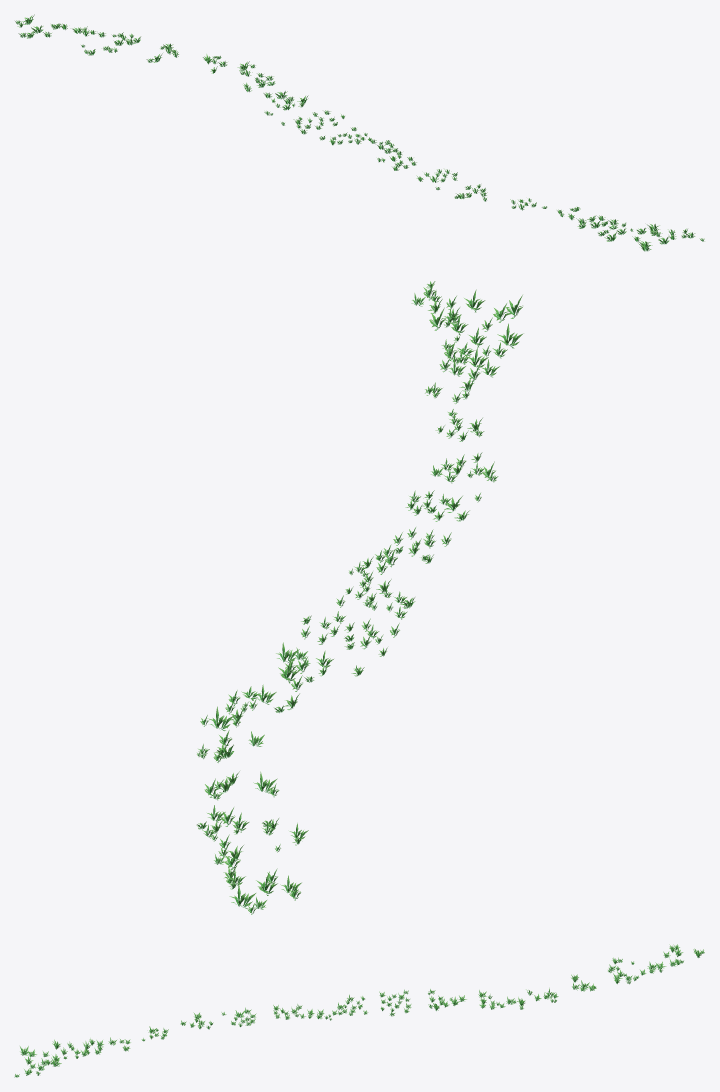
Rendered from Area_13_39.fbx.
3 views of the same model, one above another, from view 1: azimuth 30°, elevation 25°; view 2: azimuth 150°, elevation 25°; view 3: azimuth 270°, elevation 25° (orthographic). The views are drawn at different scales.
Visible parts, largest first — view 1: Area_13_39; view 2: Area_13_39; view 3: Area_13_39.
Part boxes in pixels (bbox=[...]): Area_13_39: bbox=[15, 14, 704, 251]; Area_13_39: bbox=[196, 281, 523, 914]; Area_13_39: bbox=[14, 944, 704, 1077].
Size of the model in its own units: 3096 by 109 by 6921.
